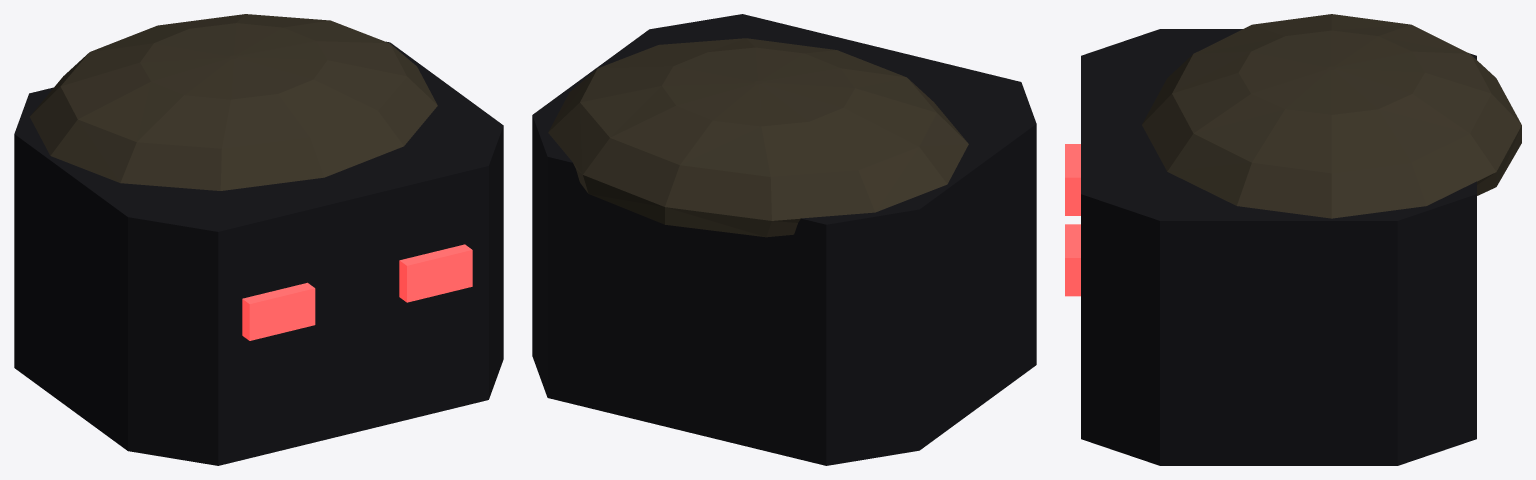
Rendered from ledmask.glb.
The picture shows the model from 3 angles, left to right: view 1: azimuth 30°, elevation 25°; view 2: azimuth 150°, elevation 25°; view 3: azimuth 270°, elevation 25°; orthographic projection. The views are drawn at different scales.
Visible parts, largest first — view 1: LED Mask.002; view 2: LED Mask.002; view 3: LED Mask.002.
Boxes of the visible parts, x1,y1,x2,y2 form: LED Mask.002: (14, 14, 503, 465); LED Mask.002: (532, 14, 1036, 465); LED Mask.002: (1065, 14, 1521, 465).
Size of the model in its own units: 0.5444 by 0.399 by 0.5475.
